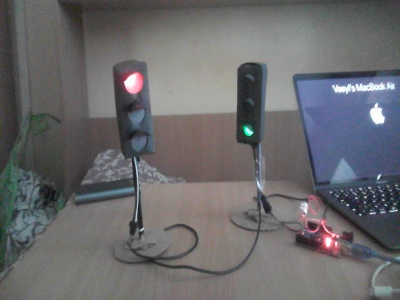trafficlight_green: (236, 64, 262, 142)
trafficlight_red: (118, 64, 149, 154)
